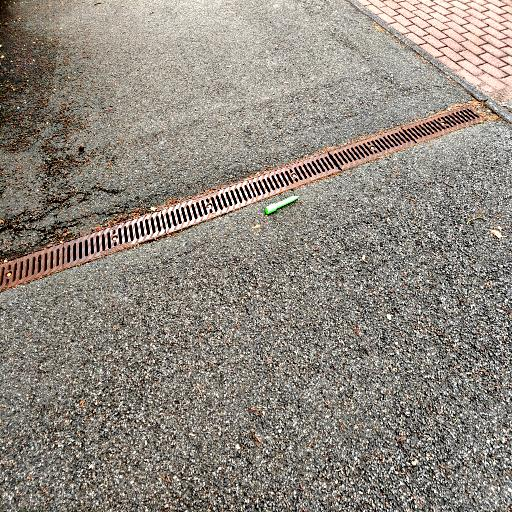Probe-Detection: (265, 196, 298, 214)
